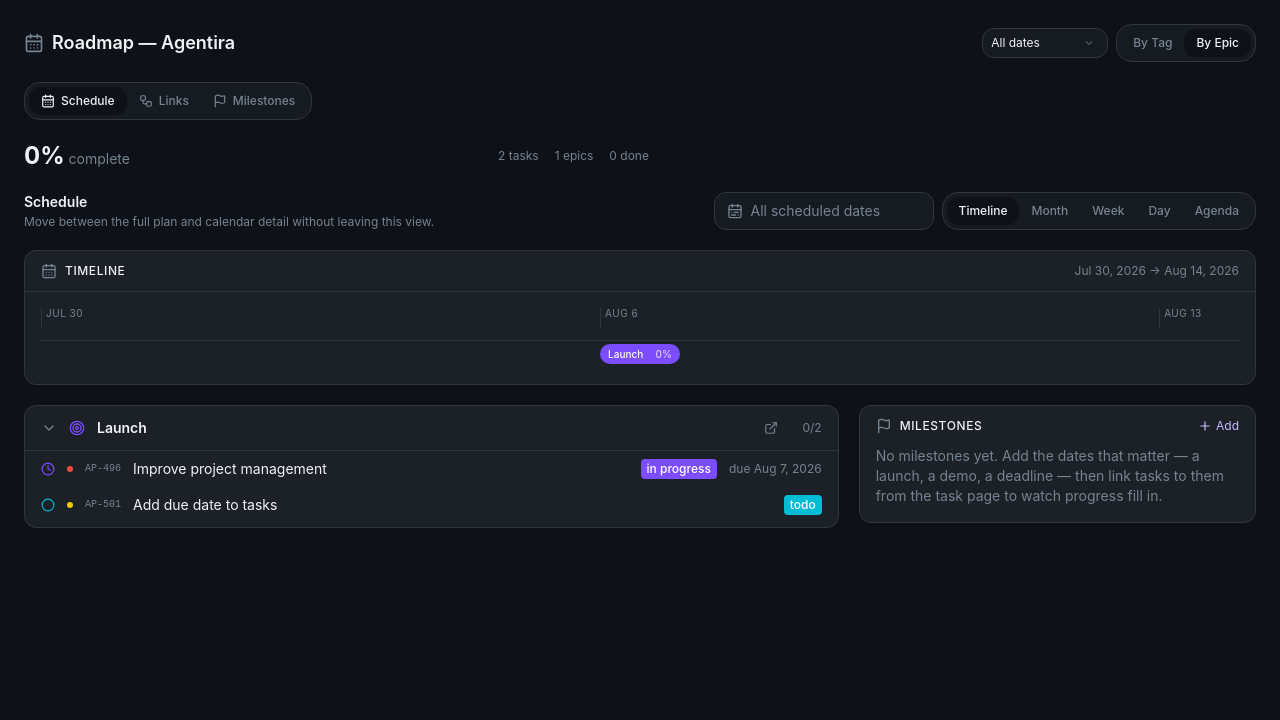
RoadmapView due-date filter (AP-501) › filters timeline tasks by due date
Expected: the button titled "Open AP-496 in full view" is shown, [25, 451, 838, 487]
Expected: the button titled "Open AP-501 in full view" is shown, [25, 487, 838, 523]
Select "Has due date" in the dropdown named "Filter by due date" at coordinates (1045, 43), box [982, 28, 1108, 58]
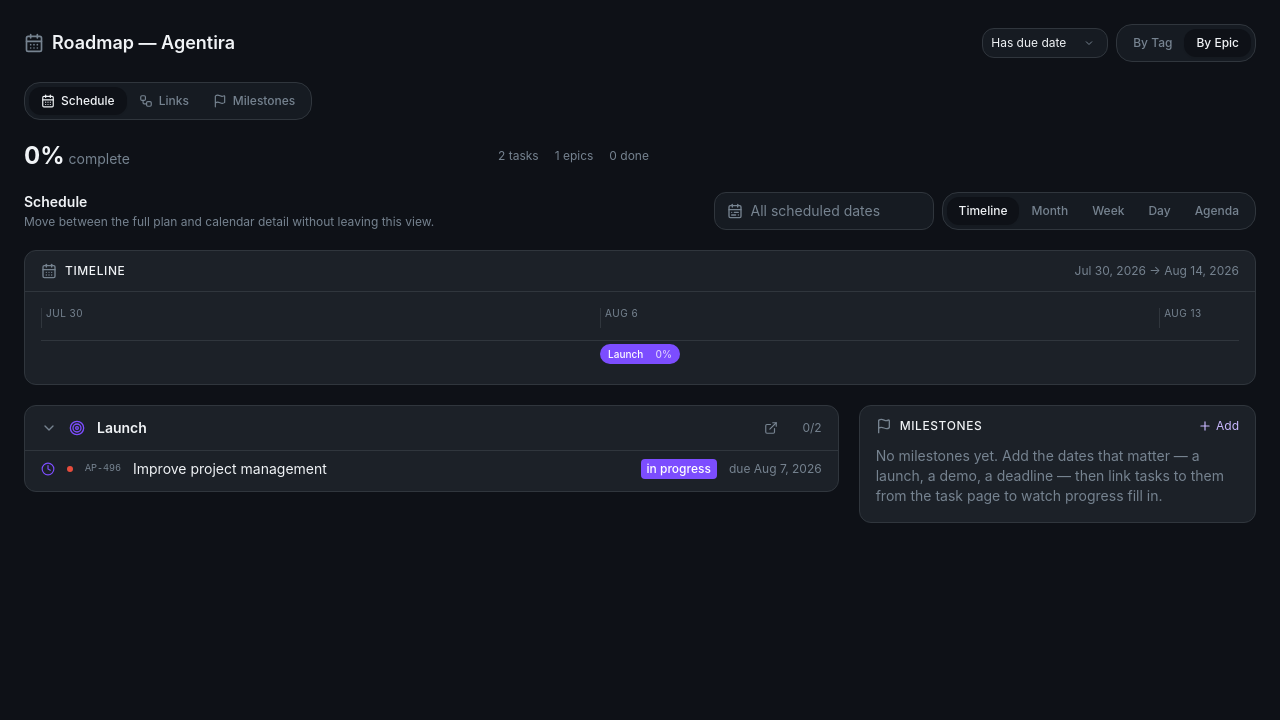
Expected: the button titled "Open AP-496 in full view" is shown, [25, 451, 838, 487]
Select "No due date" in the dropdown named "Filter by due date" at coordinates (1045, 43), box [982, 28, 1108, 58]
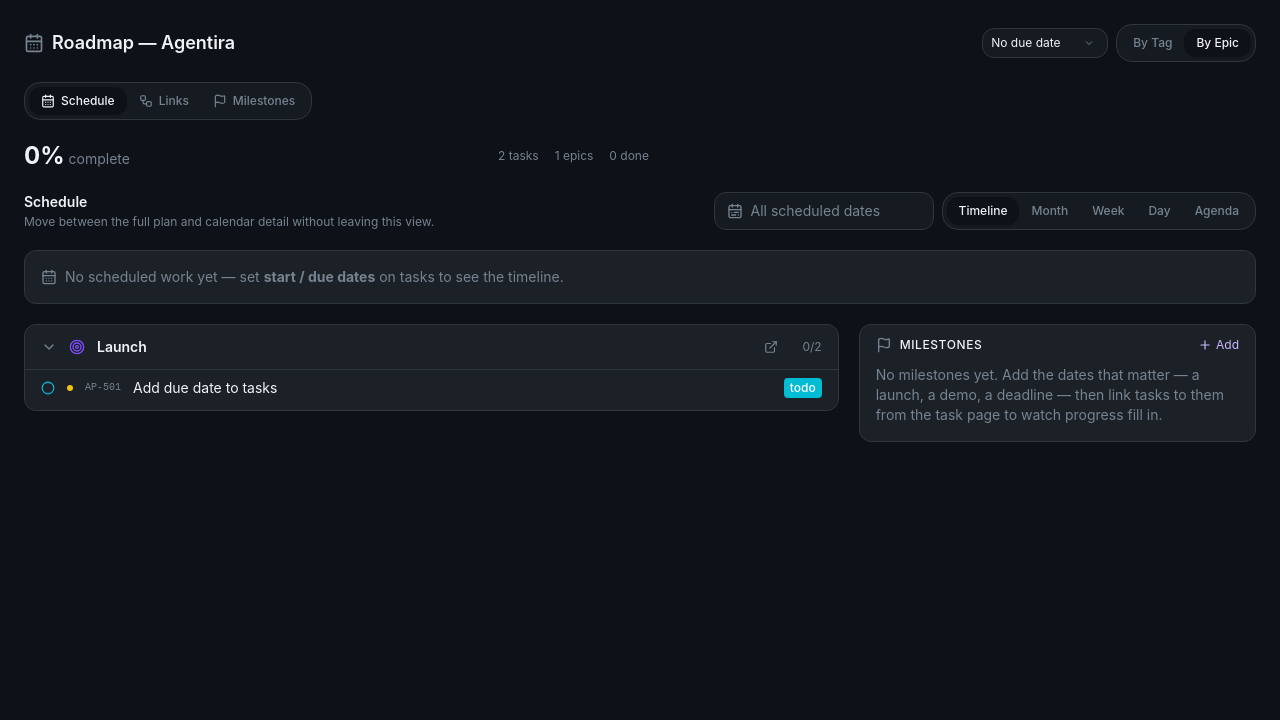
Expected: the button titled "Open AP-501 in full view" is shown, [25, 370, 838, 406]
